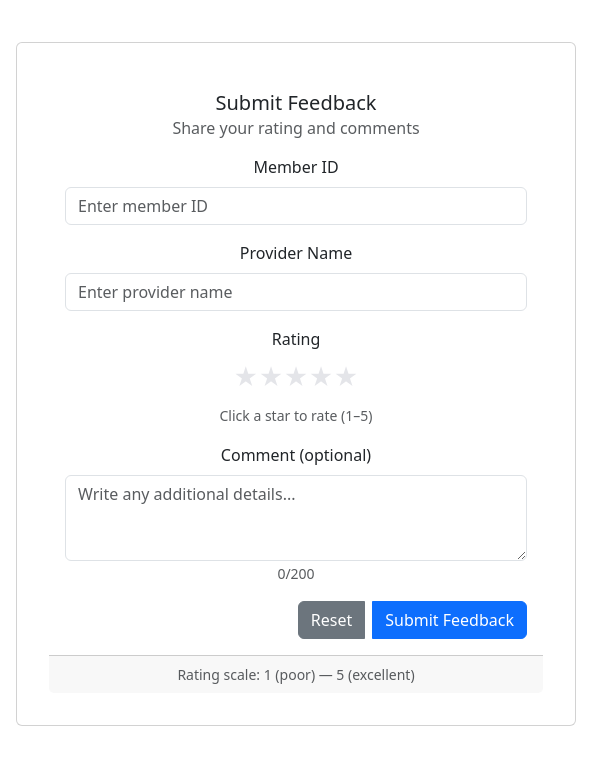
Test: FeedbackCard component › should validate if memberId input field is empty, display error message
Check: the text "Member ID is required." is not shown
Click the button "Submit Feedback" at coordinates (450, 620), box [372,601,527,639]
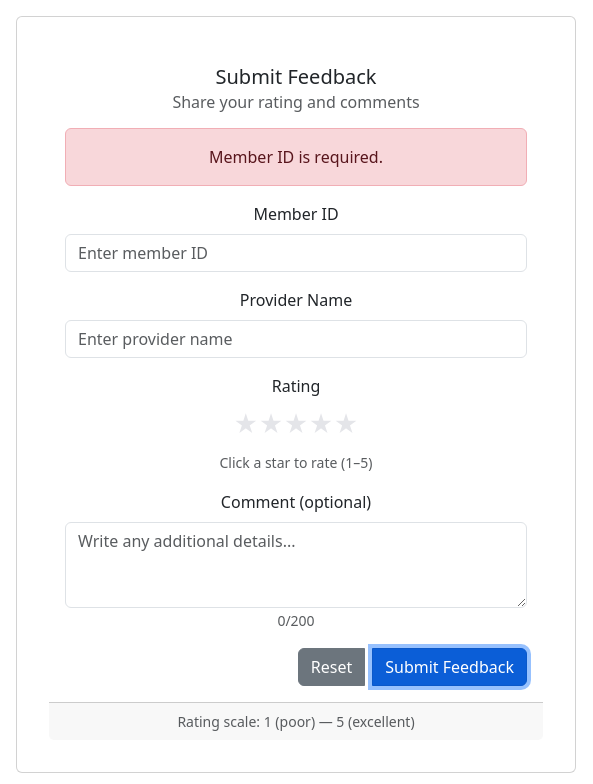
Check: the text "Member ID is required." is shown, box [65,128,527,186]
